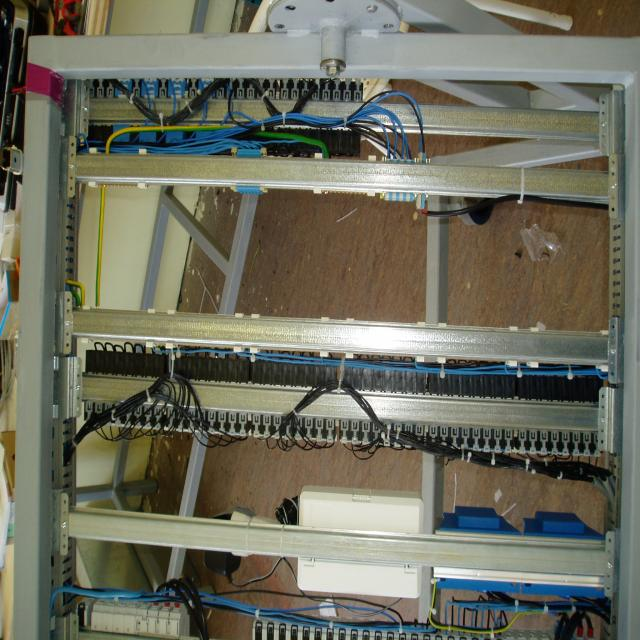Schaltkasten: (27, 57, 635, 627)
